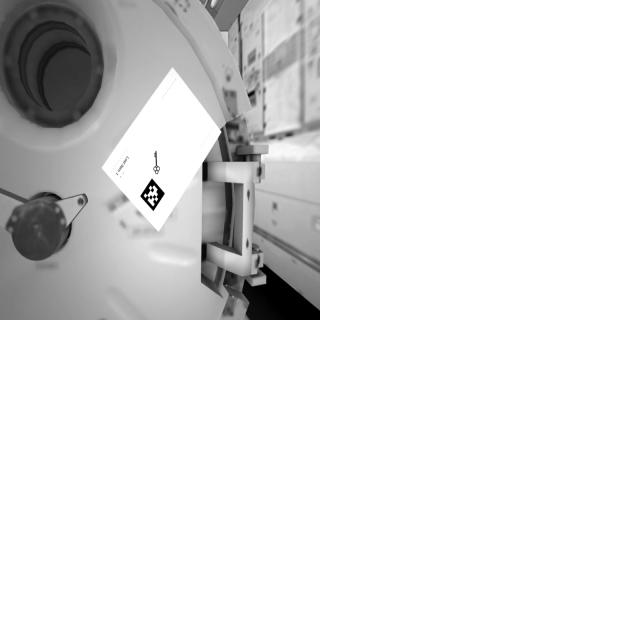key: (151, 147, 163, 179)
